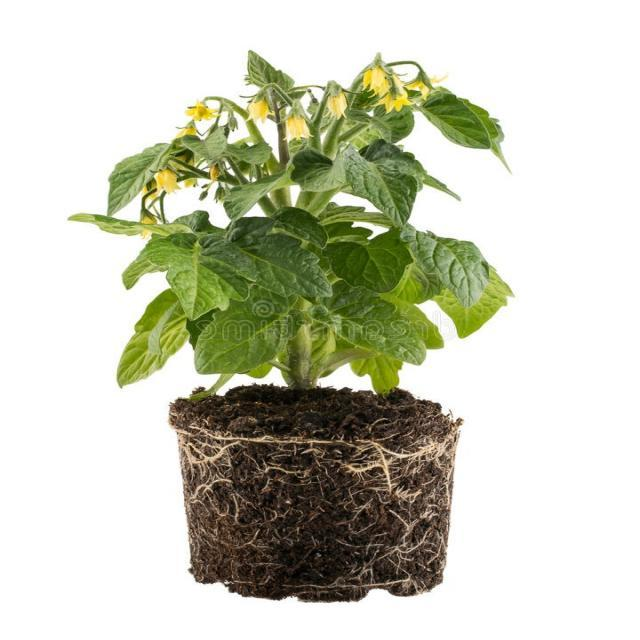tomato: (69, 51, 512, 392)
